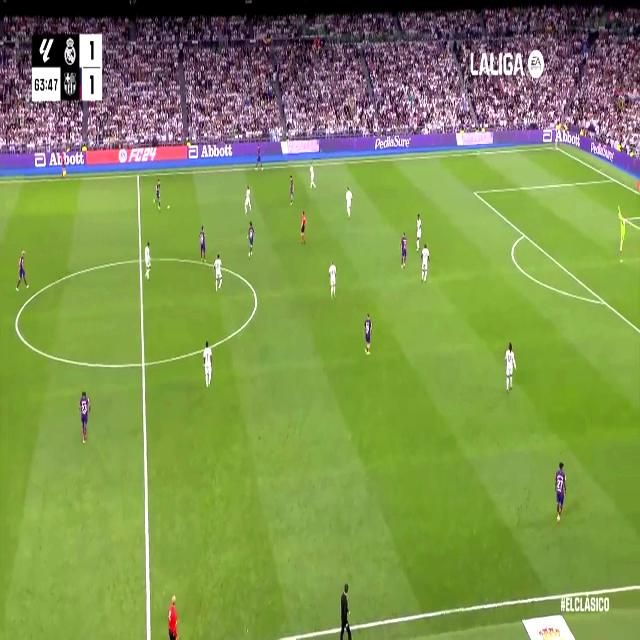bigarea_top_inner: (472, 185, 478, 199)
bigarea_top_outter: (610, 172, 616, 184)
bottom_arc_area_intersection: (600, 292, 608, 310)
corner: (552, 142, 559, 151)
halfcircle_bottom: (138, 350, 149, 376)
halfcircle_top: (135, 250, 146, 270)
midline_top_intersection: (135, 168, 141, 182)
top_arc_area_intersection: (520, 227, 528, 241)
